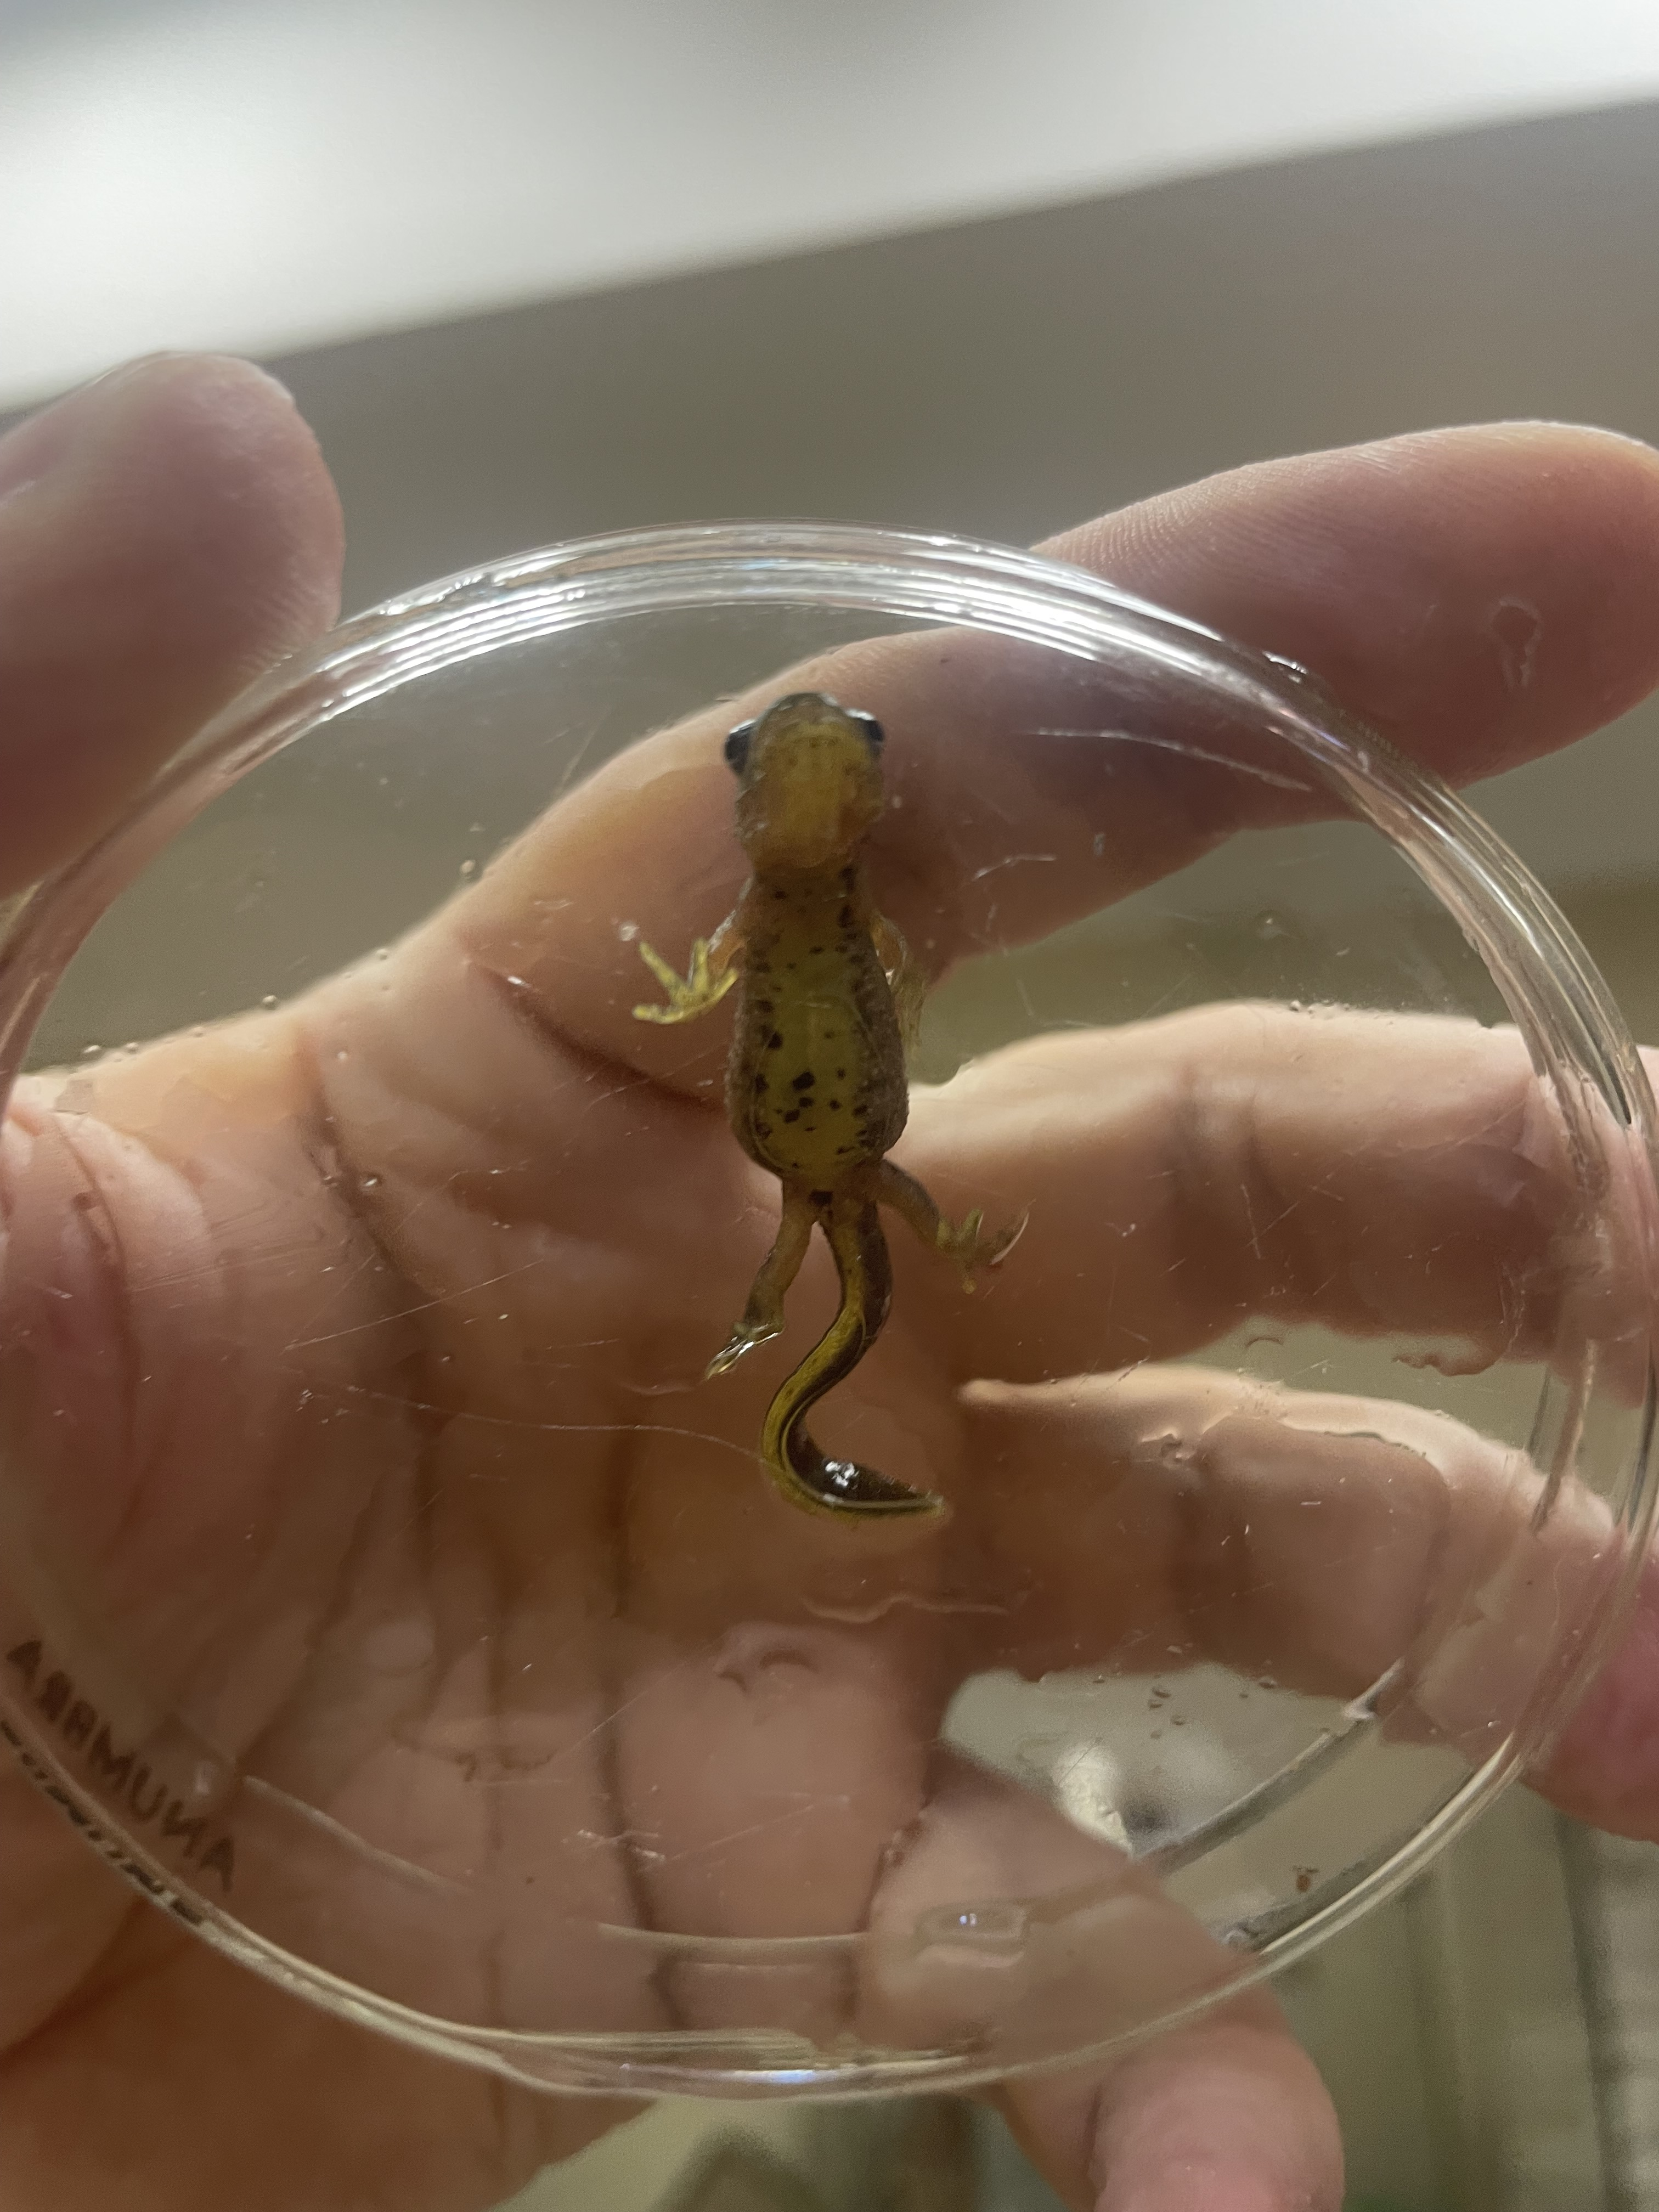Karelin_newt: (723, 921, 910, 1179)
